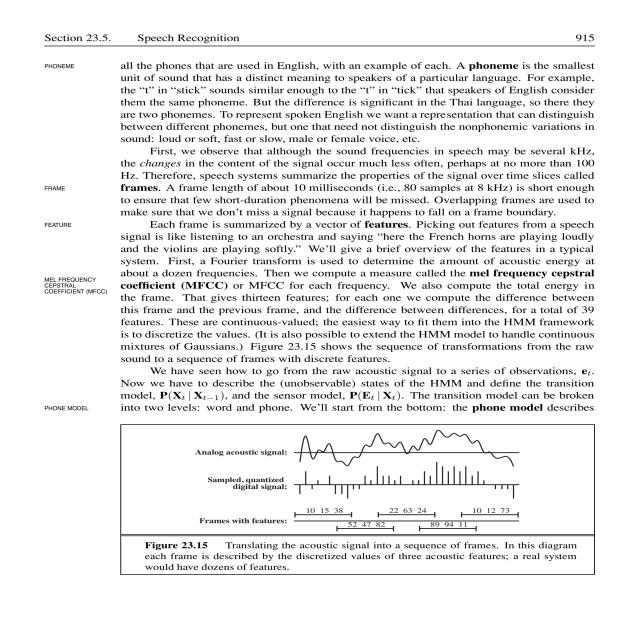diagram: (94, 418, 640, 640)
